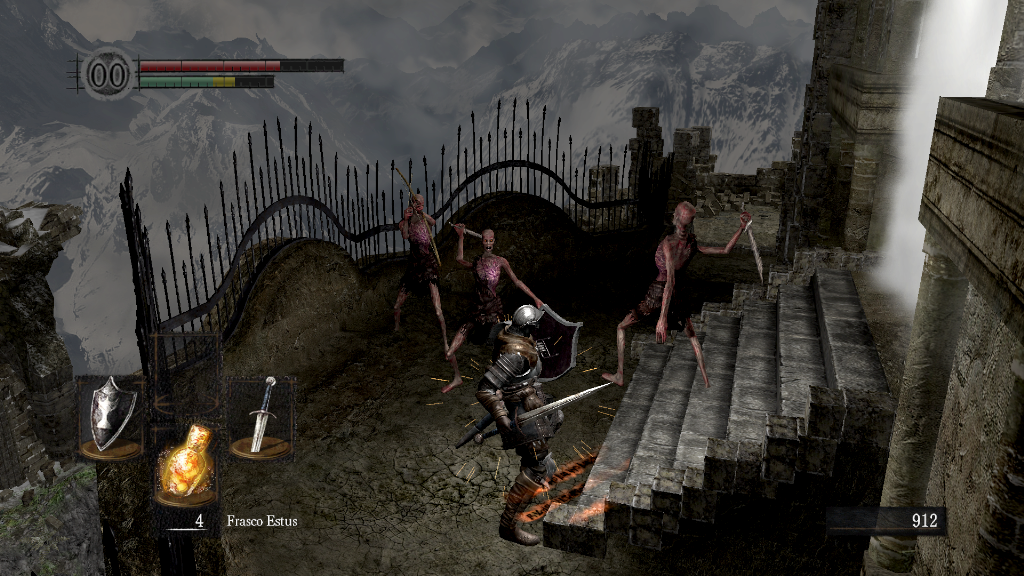health: (138, 58, 343, 71)
hollow: (600, 197, 765, 396), (436, 207, 551, 394), (390, 165, 455, 359)
humanity: (80, 45, 136, 102)
player: (456, 304, 619, 550)
souls: (825, 506, 945, 536)
stamina: (138, 74, 274, 88)
